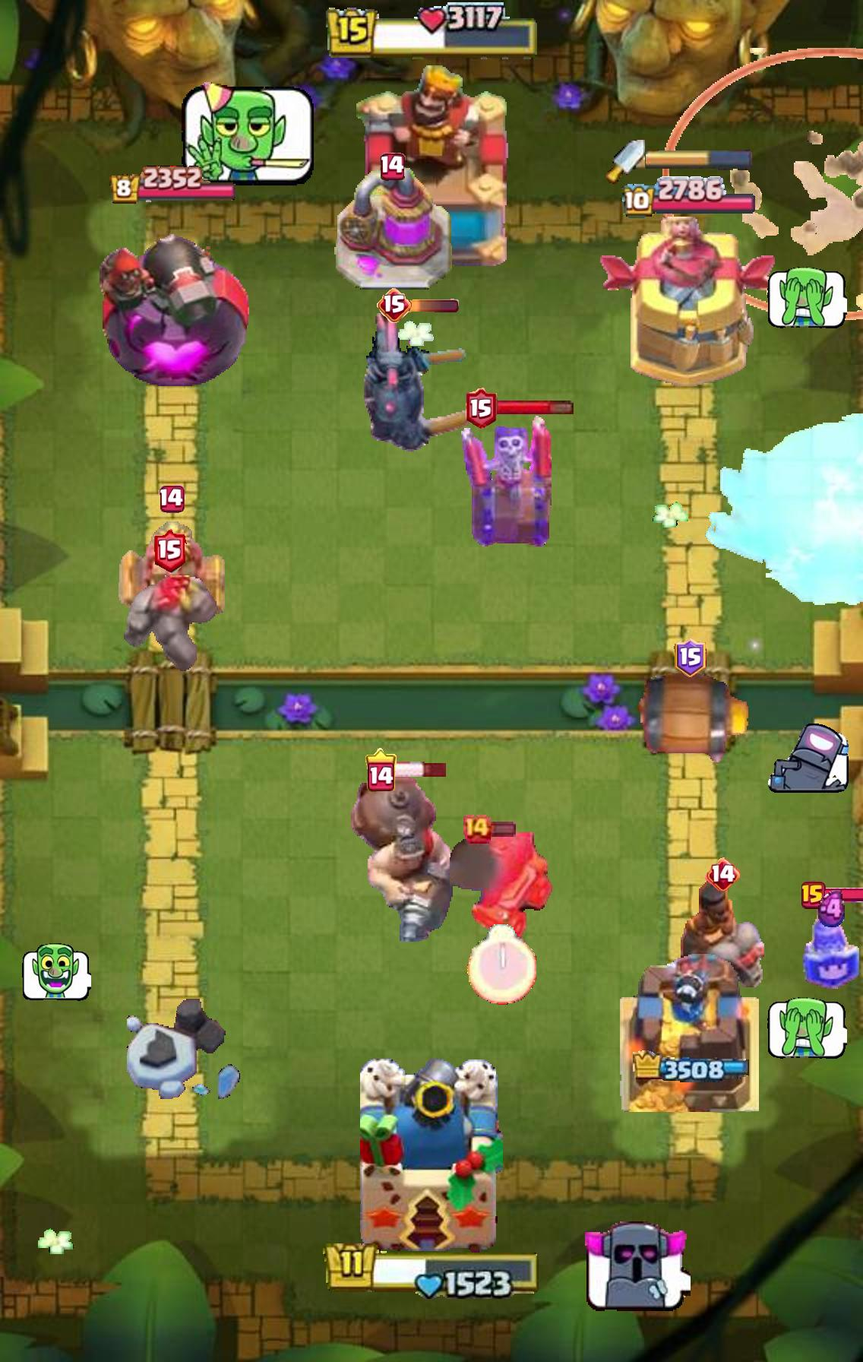bar: (494, 400, 574, 417), (392, 761, 448, 779), (408, 299, 458, 312), (822, 888, 863, 903), (488, 821, 517, 838)
bar-level: (154, 529, 187, 574), (366, 748, 397, 792), (466, 388, 498, 429), (673, 638, 706, 677), (377, 288, 412, 323), (705, 857, 741, 891), (461, 814, 492, 844), (158, 485, 185, 513), (380, 153, 406, 181), (801, 881, 826, 909)
